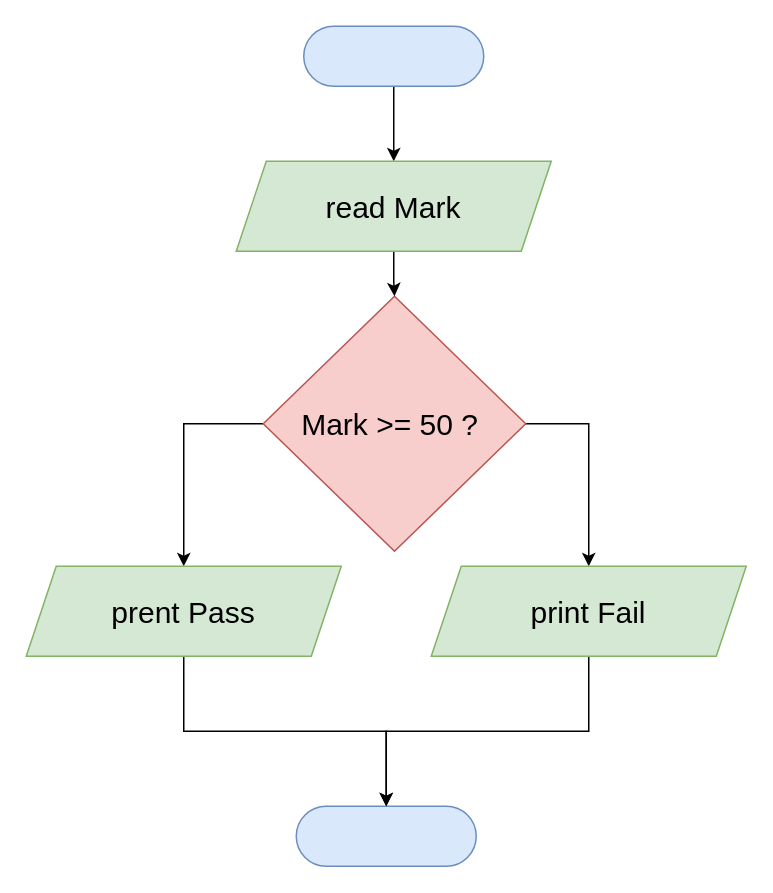
Image size: 773x893. Some labels were removed from this diagram. Each missing label, with the box of its shape:
end: (295, 805, 476, 866)
start: (302, 25, 484, 86)
